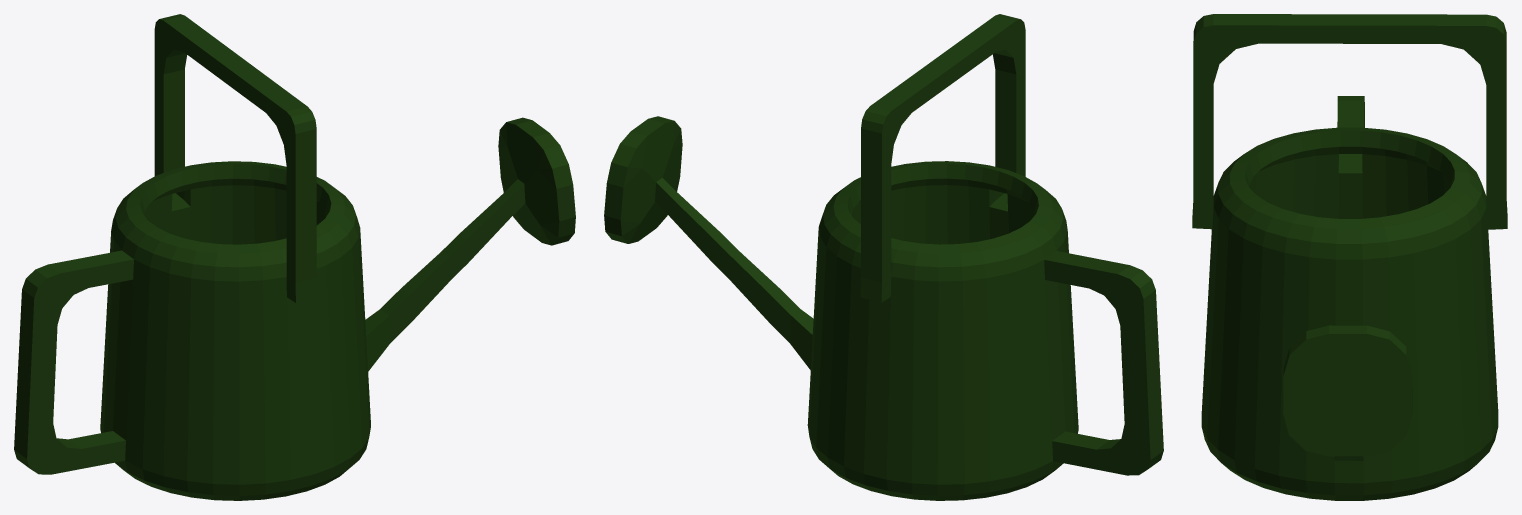
File: wateringCan 1.fbx
3 views of the same model, side by side, from view 1: azimuth 30°, elevation 25°; view 2: azimuth 150°, elevation 25°; view 3: azimuth 270°, elevation 25° (orthographic). The views are drawn at different scales.
Visible parts, largest first — view 1: Cylinder; view 2: Cylinder; view 3: Cylinder.
Boxes of the visible parts, bbox=[...] form: Cylinder: bbox=[14, 14, 575, 500]; Cylinder: bbox=[604, 14, 1163, 500]; Cylinder: bbox=[1192, 14, 1507, 500].
Bounding box in the file's own units: 1276 × 898 × 600.
